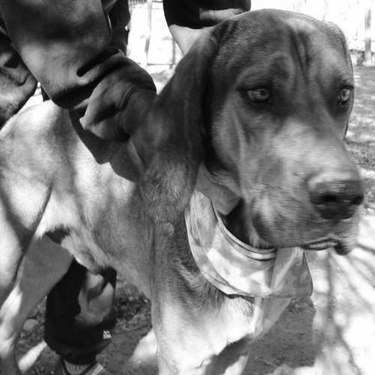dog: (5, 7, 368, 371)
